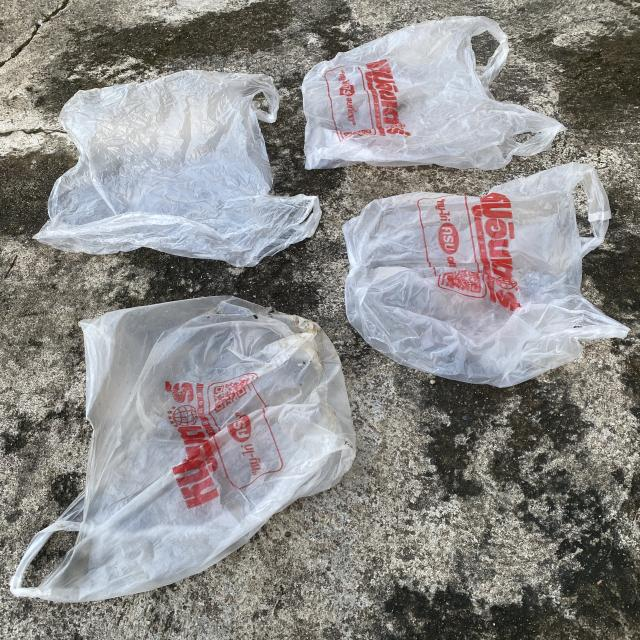Single-layer Plastic: (10, 298, 355, 602), (342, 162, 628, 388), (35, 70, 320, 266), (301, 16, 565, 170)
